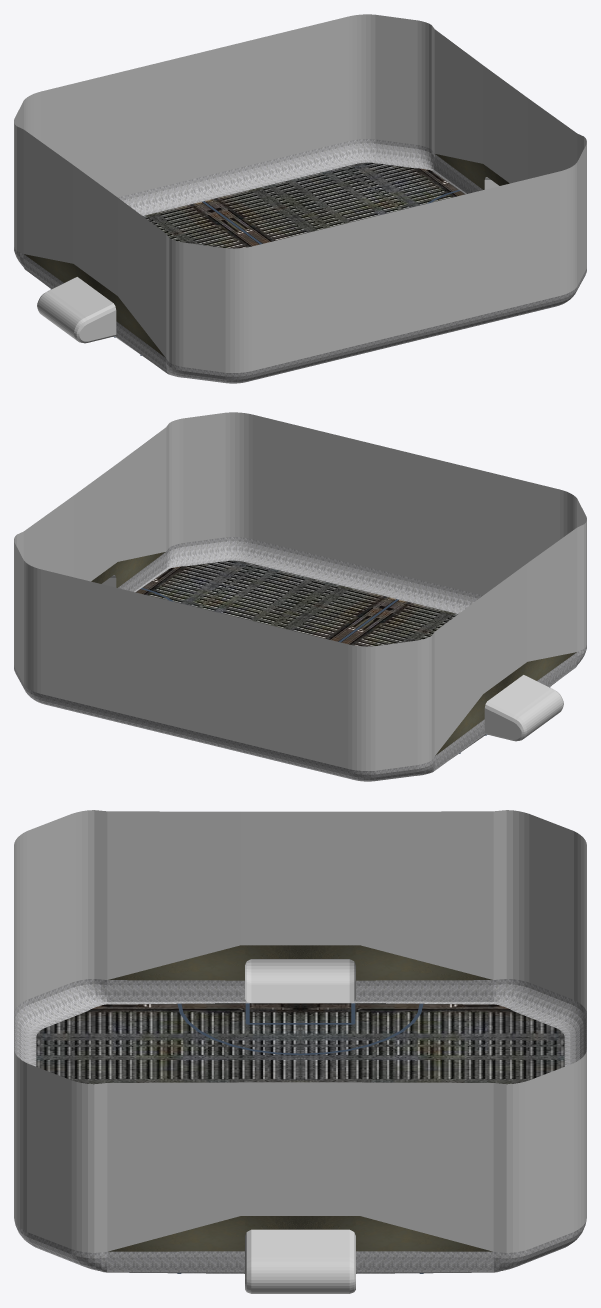
Rendered from _BallModeBaseMap.fbx.
The picture shows the model from 3 angles, top to bottom: view 1: azimuth 30°, elevation 25°; view 2: azimuth 150°, elevation 25°; view 3: azimuth 270°, elevation 25°; orthographic projection. The views are drawn at different scales.
Parts seen in each view (by area): view 1: Plane; view 2: Plane; view 3: Plane.
Boxes of the visible parts, x1,y1,x2,y2 form: Plane: (14, 14, 586, 383); Plane: (14, 412, 586, 781); Plane: (14, 810, 586, 1293).
Bounding box in the file's own units: 396 × 109 × 297.
